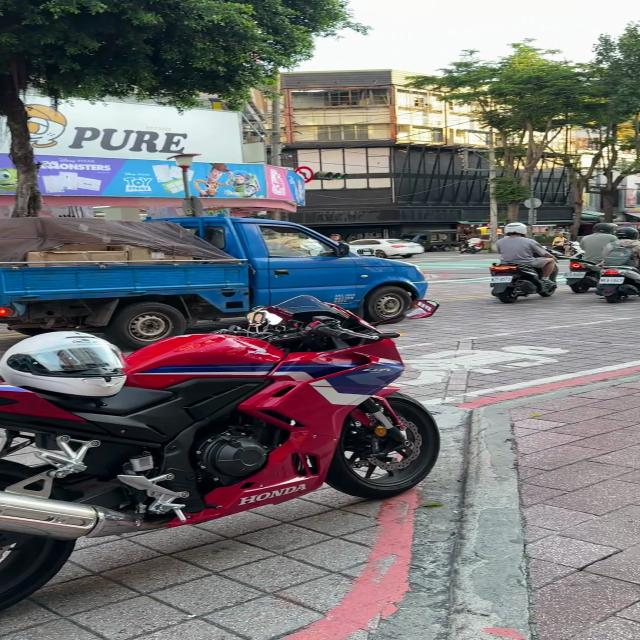car: (351, 239, 424, 258)
crosswalk: (413, 258, 501, 269), (425, 276, 490, 283)
motocycle: (0, 295, 439, 606), (490, 262, 556, 304), (596, 266, 640, 302), (562, 258, 600, 292)
trunk: (0, 218, 428, 348)
